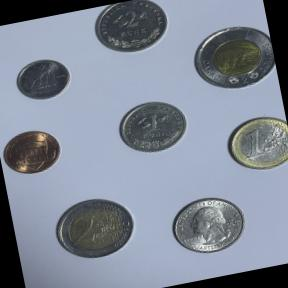coin: (184, 17, 280, 101), (45, 189, 143, 267), (164, 186, 254, 262), (87, 0, 175, 61), (219, 110, 288, 177), (0, 121, 69, 183), (10, 52, 79, 110)
